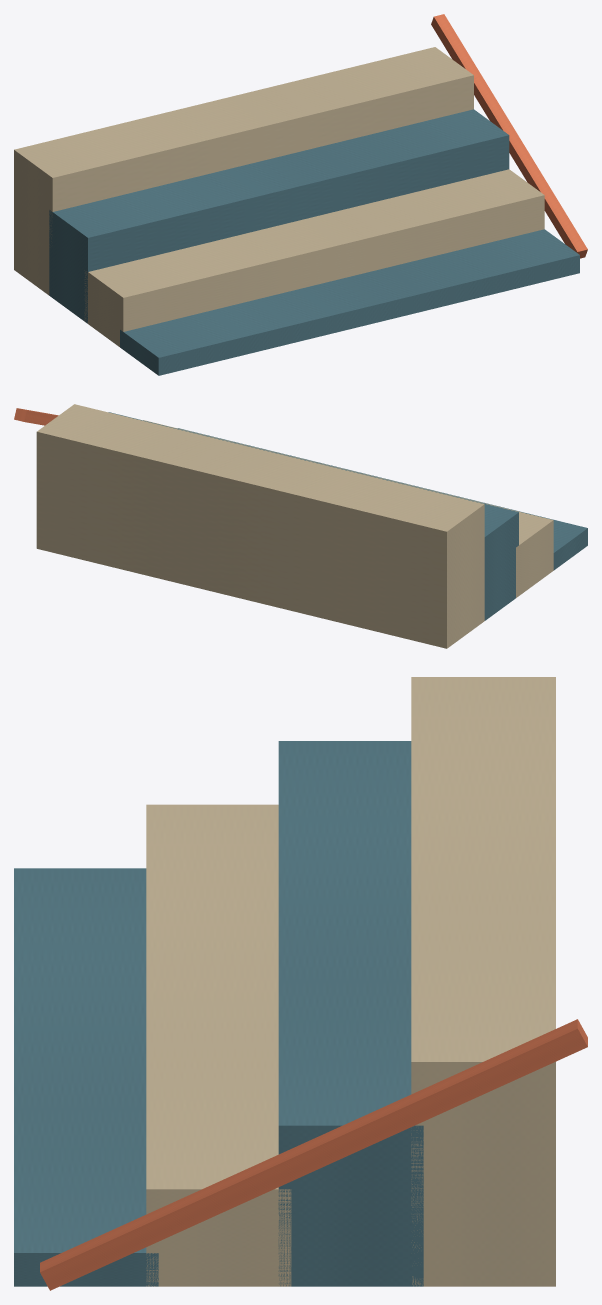
Rendered from atlas100-s041-a10.lod1.glb.
3 renders of one model, top to bottom at view 1: azimuth 30°, elevation 25°; view 2: azimuth 150°, elevation 25°; view 3: azimuth 270°, elevation 25°, orthographic. The views are drawn at different scales.
Visible parts, largest first — view 1: atlas100-s041-a10:part-003, atlas100-s041-a10:part-002, atlas100-s041-a10:part-001, atlas100-s041-a10:part-000, atlas100-s041-a10:part-005; view 2: atlas100-s041-a10:part-003, atlas100-s041-a10:part-002, atlas100-s041-a10:part-001, atlas100-s041-a10:part-000, atlas100-s041-a10:part-005; view 3: atlas100-s041-a10:part-003, atlas100-s041-a10:part-002, atlas100-s041-a10:part-001, atlas100-s041-a10:part-000, atlas100-s041-a10:part-005.
Part boxes in pixels (x1,y1,x2,y2): atlas100-s041-a10:part-003: [14, 47, 473, 295]; atlas100-s041-a10:part-002: [49, 109, 509, 323]; atlas100-s041-a10:part-001: [84, 169, 544, 346]; atlas100-s041-a10:part-000: [120, 229, 579, 375]; atlas100-s041-a10:part-005: [431, 14, 587, 258]; atlas100-s041-a10:part-003: [36, 404, 484, 648]; atlas100-s041-a10:part-002: [108, 412, 518, 620]; atlas100-s041-a10:part-001: [143, 420, 553, 597]; atlas100-s041-a10:part-000: [178, 428, 587, 570]; atlas100-s041-a10:part-005: [14, 408, 58, 425]; atlas100-s041-a10:part-003: [411, 677, 555, 1286]; atlas100-s041-a10:part-002: [278, 741, 423, 1286]; atlas100-s041-a10:part-001: [146, 804, 291, 1286]; atlas100-s041-a10:part-000: [14, 868, 158, 1286]; atlas100-s041-a10:part-005: [40, 1019, 587, 1290].
Size of the model in its own units: 2.28 by 0.7246 by 1.39.
Materials: 3 (3 with a texture image).
